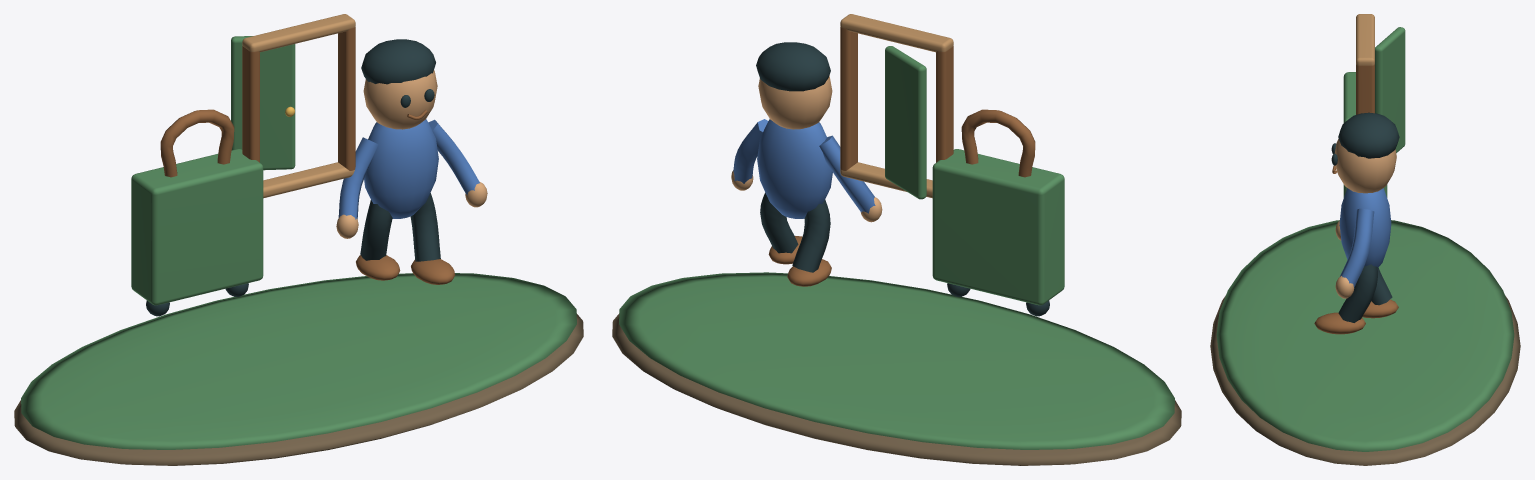
File: complete-second-guest-person.glb
3 views of the same model, side by side, from view 1: azimuth 30°, elevation 25°; view 2: azimuth 150°, elevation 25°; view 3: azimuth 270°, elevation 25° (orthographic). The views are drawn at different scales.
Visible parts, largest first — view 1: complete-second-guest-person_surface_01, complete-second-guest-person_surface_00, complete-second-guest-person_surface_02, complete-second-guest-person_surface_05, complete-second-guest-person_surface_03, complete-second-guest-person_surface_04, complete-second-guest-person_surface_06; view 2: complete-second-guest-person_surface_01, complete-second-guest-person_surface_00, complete-second-guest-person_surface_05, complete-second-guest-person_surface_02, complete-second-guest-person_surface_03, complete-second-guest-person_surface_04, complete-second-guest-person_surface_06; view 3: complete-second-guest-person_surface_01, complete-second-guest-person_surface_00, complete-second-guest-person_surface_03, complete-second-guest-person_surface_05, complete-second-guest-person_surface_04, complete-second-guest-person_surface_02, complete-second-guest-person_surface_06.
Part boxes in pixels (left/top/right/bottom): complete-second-guest-person_surface_01: left=21, top=36, right=576, bottom=449; complete-second-guest-person_surface_00: left=14, top=313, right=583, bottom=465; complete-second-guest-person_surface_02: left=160, top=27, right=455, bottom=284; complete-second-guest-person_surface_05: left=338, top=119, right=479, bottom=219; complete-second-guest-person_surface_03: left=146, top=39, right=440, bottom=316; complete-second-guest-person_surface_04: left=336, top=70, right=487, bottom=238; complete-second-guest-person_surface_06: left=242, top=14, right=355, bottom=198; complete-second-guest-person_surface_01: left=619, top=46, right=1174, bottom=449; complete-second-guest-person_surface_00: left=612, top=313, right=1181, bottom=465; complete-second-guest-person_surface_05: left=733, top=119, right=875, bottom=218; complete-second-guest-person_surface_02: left=768, top=27, right=1035, bottom=286; complete-second-guest-person_surface_03: left=756, top=42, right=1049, bottom=316; complete-second-guest-person_surface_04: left=731, top=75, right=882, bottom=222; complete-second-guest-person_surface_06: left=840, top=14, right=953, bottom=198; complete-second-guest-person_surface_01: left=1216, top=27, right=1514, bottom=451; complete-second-guest-person_surface_00: left=1210, top=295, right=1520, bottom=465; complete-second-guest-person_surface_03: left=1331, top=112, right=1399, bottom=322; complete-second-guest-person_surface_05: left=1339, top=188, right=1391, bottom=287; complete-second-guest-person_surface_04: left=1334, top=139, right=1396, bottom=298; complete-second-guest-person_surface_02: left=1314, top=64, right=1398, bottom=334; complete-second-guest-person_surface_06: left=1356, top=14, right=1374, bottom=65.
Size of the model in its own units: 4.56 by 2.89 by 2.5.
